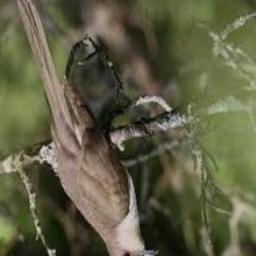Cuckoo: (19, 0, 158, 256)
